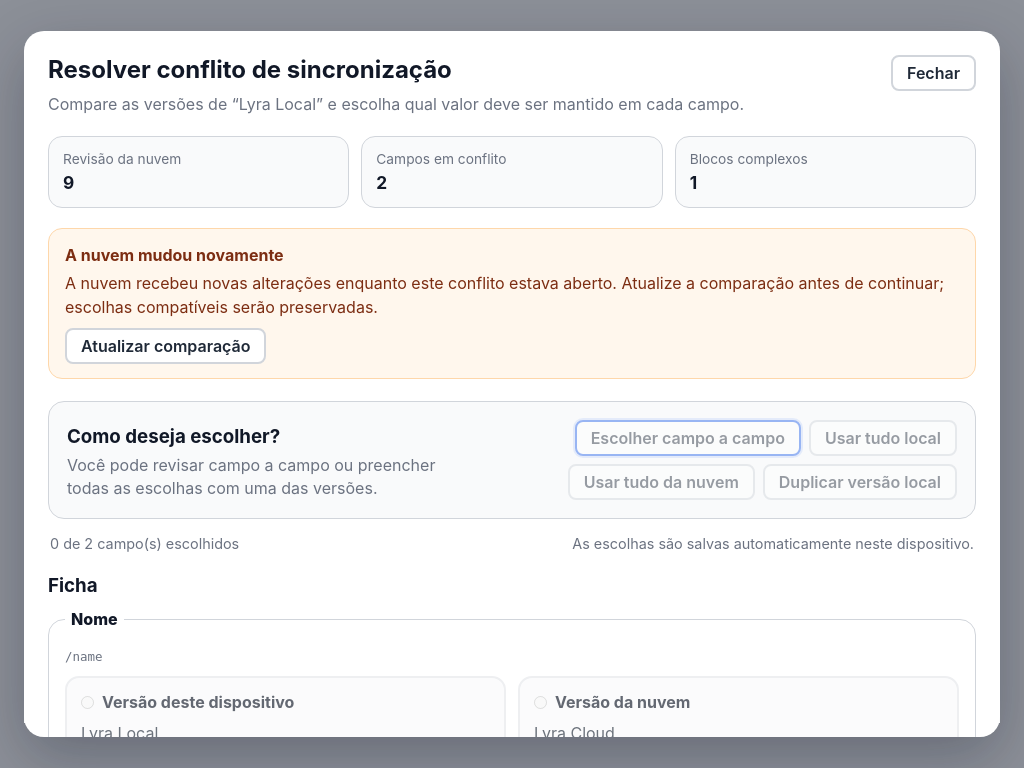
Test: CharacterConflictResolutionModal › refreshes a newer cloud comparison and preserves compatible choices
Click the button "Atualizar comparação" at coordinates (166, 346), box [65, 328, 266, 364]
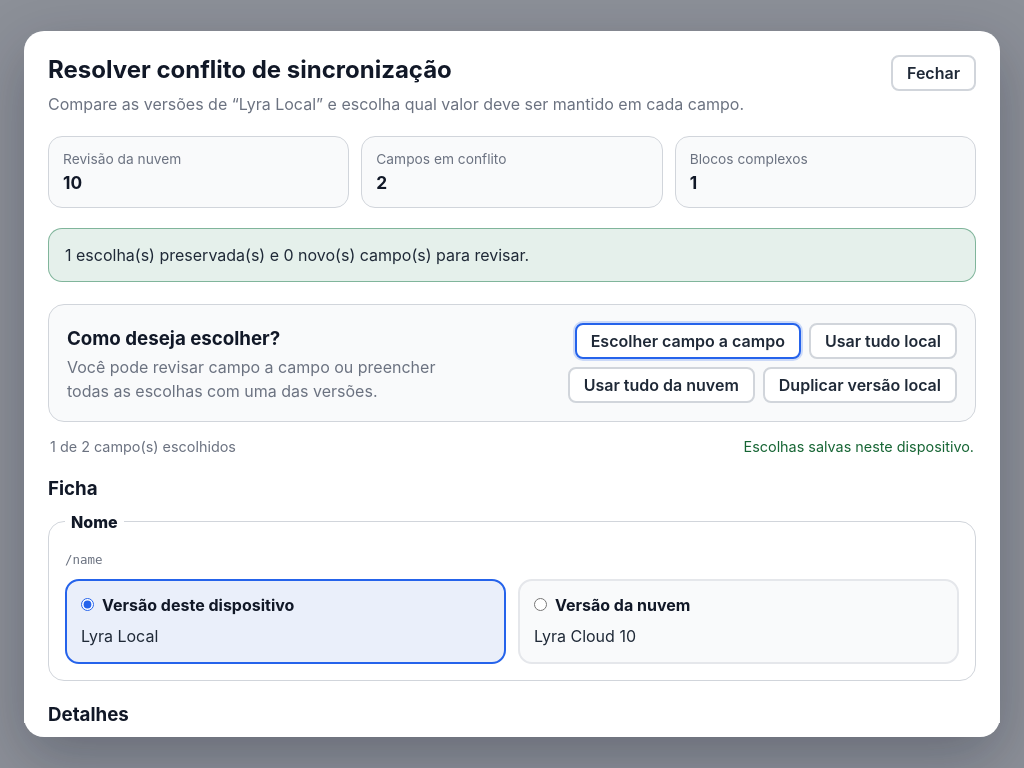
Expected: the text "Lyra Cloud 10" is shown, [534, 626, 636, 646]
Expected: the text "A nuvem mudou novamente" is gone
Expected: the text "1 escolha(s) preservada(s) e 0 novo(s) campo(s) para revisar." is shown, [48, 228, 976, 282]
